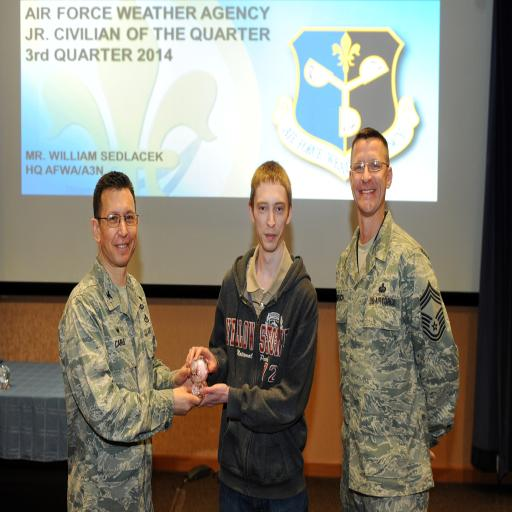Person: (321, 168, 477, 428), (45, 195, 201, 428), (202, 189, 358, 422)
goggles: (349, 190, 393, 204), (98, 226, 141, 240)
no_gloves: (170, 338, 203, 360), (202, 338, 235, 360), (189, 314, 222, 336)
no_goggle: (252, 218, 288, 230)
no_helmet: (345, 158, 395, 185), (90, 194, 140, 220), (247, 187, 296, 213)
none: (332, 232, 436, 404), (61, 271, 168, 400), (223, 248, 306, 392)
